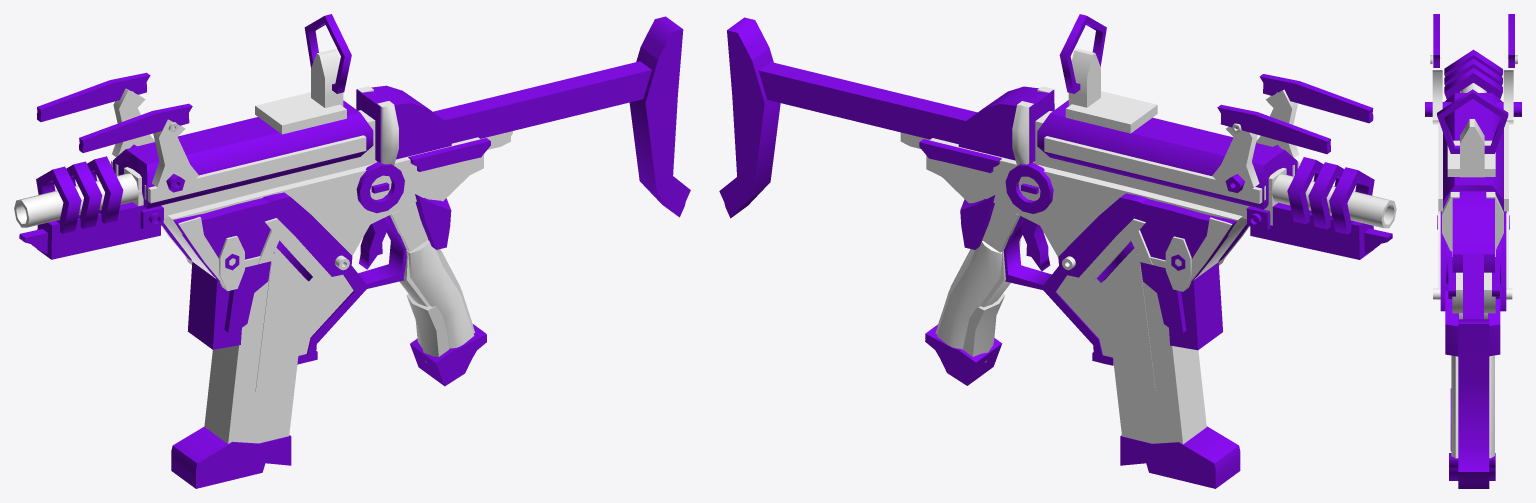
Rendered from gun.FBX.
3 views of the same model, side by side, from view 1: azimuth 30°, elevation 25°; view 2: azimuth 150°, elevation 25°; view 3: azimuth 270°, elevation 25° (orthographic). The views are drawn at different scales.
Visible parts, largest first — view 1: Box034, Box027, Box031, Box005, Box016, Box043, Box040, Box021, Box045, Box004, Box036, Box042 (+16 smaller); view 2: Box034, Box027, Box031, Box005, Box016, Box043, Box040, Box004, Box021, Box045, Box036, Box024 (+16 smaller); view 3: Box031, Box005, Box004, Box034, Box045, Box006, Tube014, Box042, Box016, Box036, Tube009, Box043 (+12 smaller).
Boxes of the visible parts, <box> form: Box034: <box>124,110,512,355</box>; Box027: <box>171,247,306,488</box>; Box031: <box>433,16,690,217</box>; Box005: <box>113,100,373,208</box>; Box016: <box>162,192,352,281</box>; Box043: <box>37,72,192,152</box>; Box040: <box>19,202,163,259</box>; Box021: <box>161,217,331,291</box>; Box045: <box>255,49,346,134</box>; Box004: <box>356,85,452,162</box>; Box036: <box>111,135,366,203</box>; Box042: <box>112,88,198,196</box>; Box034: <box>900,111,1286,365</box>; Box027: <box>1104,248,1240,488</box>; Box031: <box>719,17,977,218</box>; Box005: <box>1037,100,1297,209</box>; Box016: <box>1058,193,1248,282</box>; Box043: <box>1217,74,1373,154</box>; Box040: <box>1246,202,1392,259</box>; Box004: <box>958,86,1054,163</box>; Box021: <box>1079,217,1249,291</box>; Box045: <box>1065,48,1157,133</box>; Box036: <box>1044,136,1299,203</box>; Box024: <box>1169,262,1222,350</box>; Box031: <box>1458,253,1489,488</box>; Box005: <box>1443,93,1503,211</box>; Box004: <box>1452,191,1494,272</box>; Box034: <box>1451,250,1495,458</box>; Box045: <box>1447,119,1495,177</box>; Box006: <box>1445,291,1500,356</box>; Tube014: <box>1437,89,1508,153</box>; Box042: <box>1432,50,1513,124</box>; Box016: <box>1440,211,1506,311</box>; Box036: <box>1438,122,1508,211</box>; Tube009: <box>1444,68,1502,99</box>; Box043: <box>1433,14,1514,67</box>.
Bounding box in the file's own units: 293 × 182 × 41.83.
